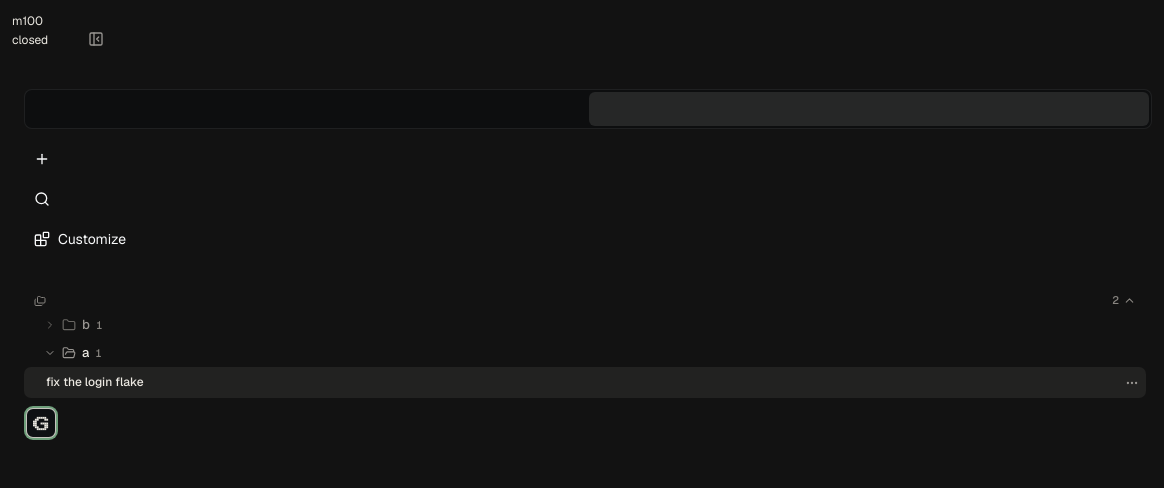
Test: Sidebar keyboard access to row actions › the ContextMenu key opens the menu and Escape returns focus to the row
The width and height of the screenshot is (1164, 488).
Click the button "b 1": (50, 325) [24, 311, 1146, 339]
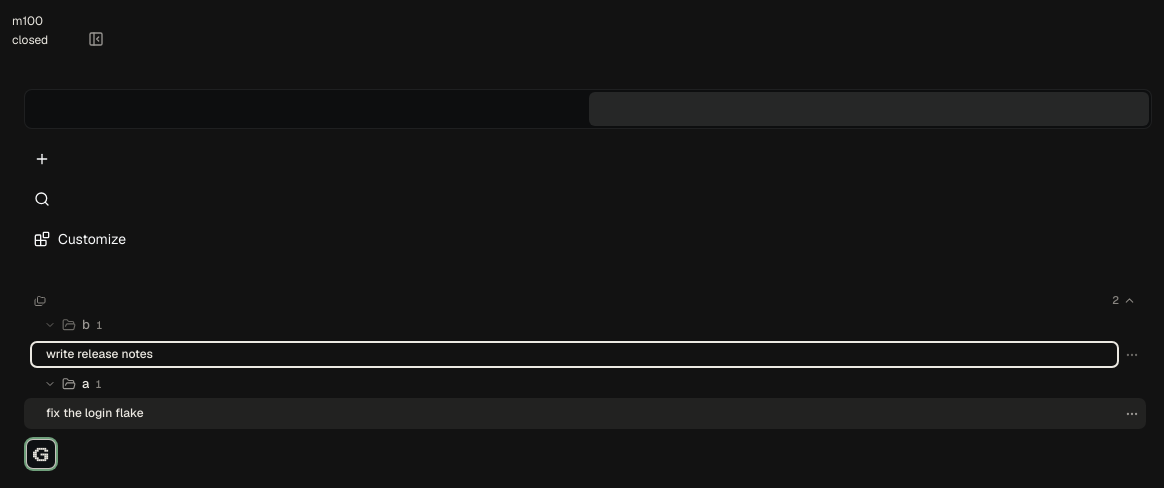
Press ContextMenu in the button "write release notes", box [30, 341, 1119, 368]
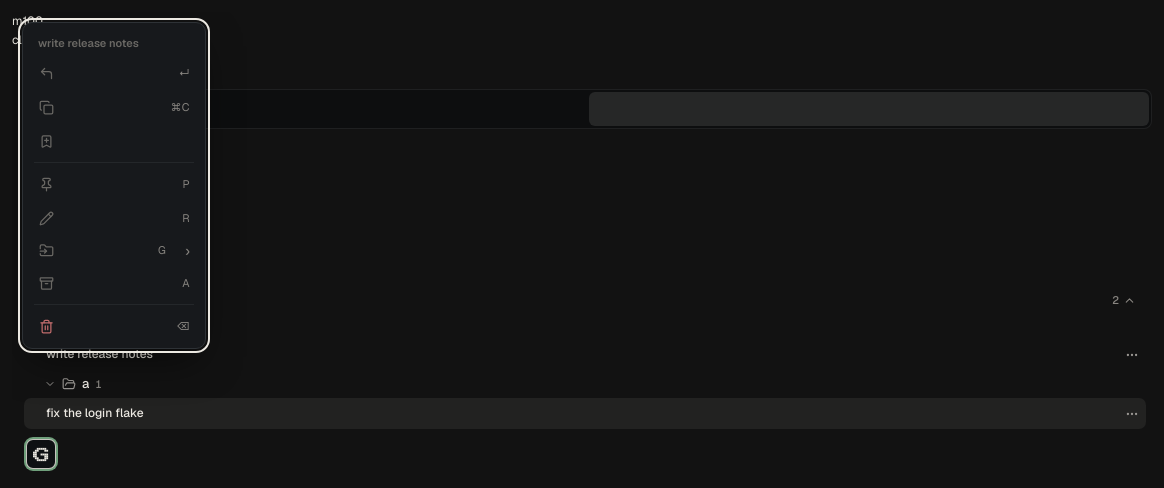
Press Escape
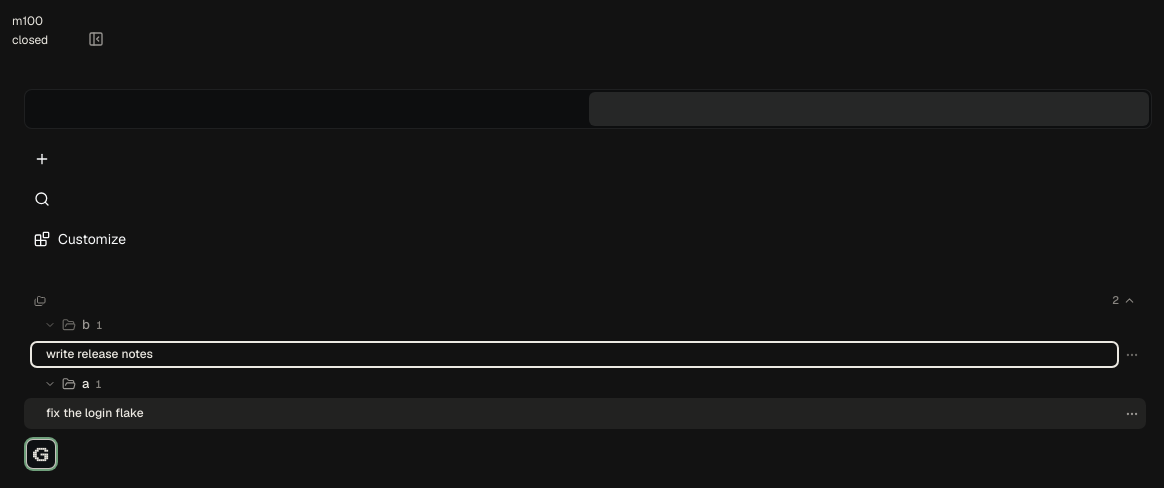
Now the menu is gone
